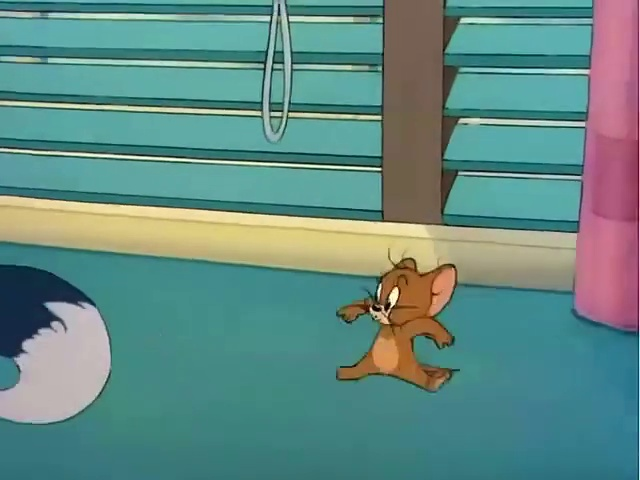jerry: (312, 239, 508, 397)
